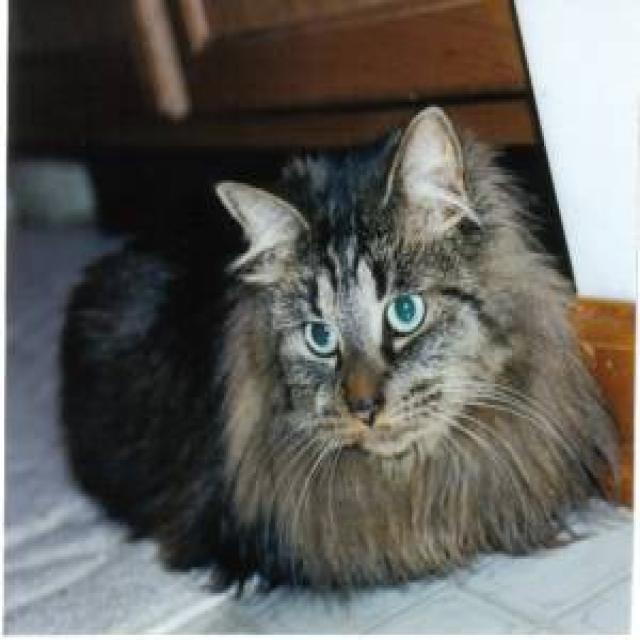Maine_Coon: (213, 98, 532, 461)
